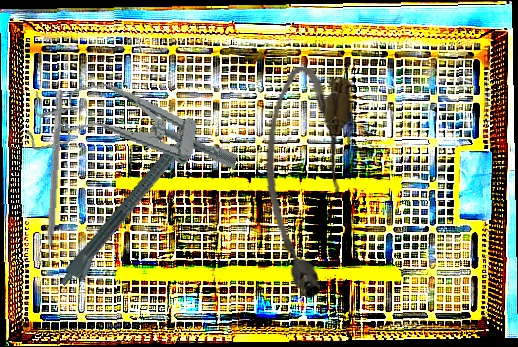Cannula: (254, 64, 354, 300)
Handpiece: (55, 119, 209, 295)
Spatula Surgical: (39, 90, 64, 269)
Speculum: (23, 72, 246, 185)
